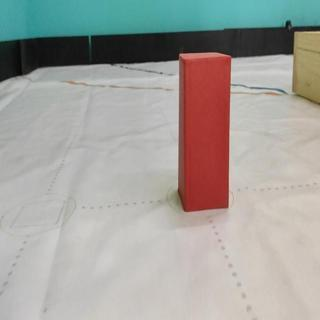redbox: (175, 51, 232, 214)
